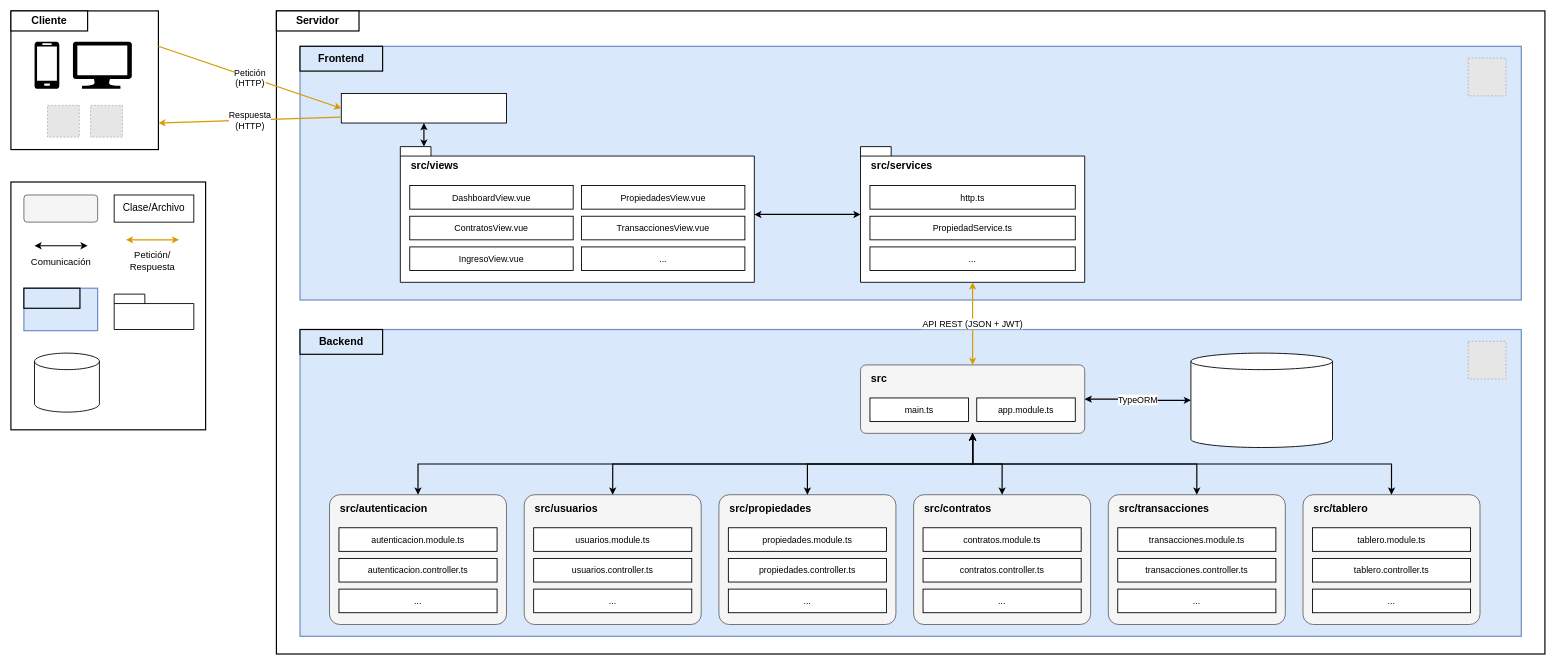
Image size: 1555x664. Some labels were removed from this diagram. Grey dashed boxes stand in for pictures. Each missing label, with the centre of its shape:
Base de datos: [67,382]
Módulo: [60,208]
paquete: [153,311]
Proyecto: [51,298]
SQLite database.sqlite: [1261,400]
src/router/index.ts: [424,108]
